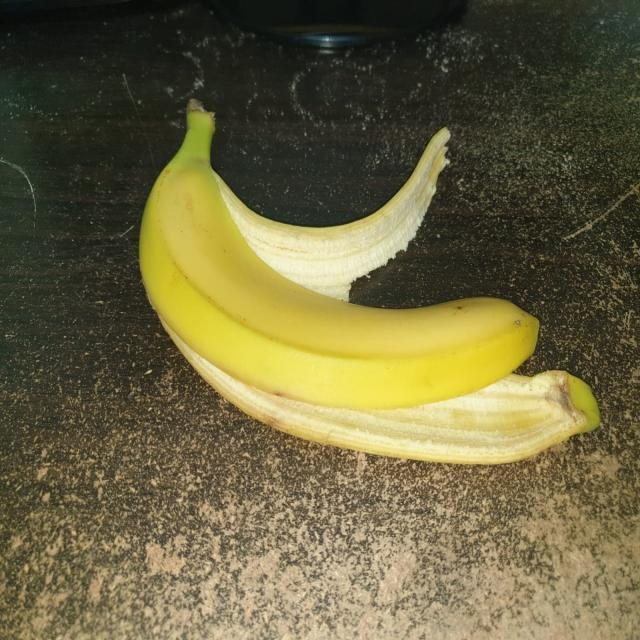banana-peel: (140, 98, 601, 463)
